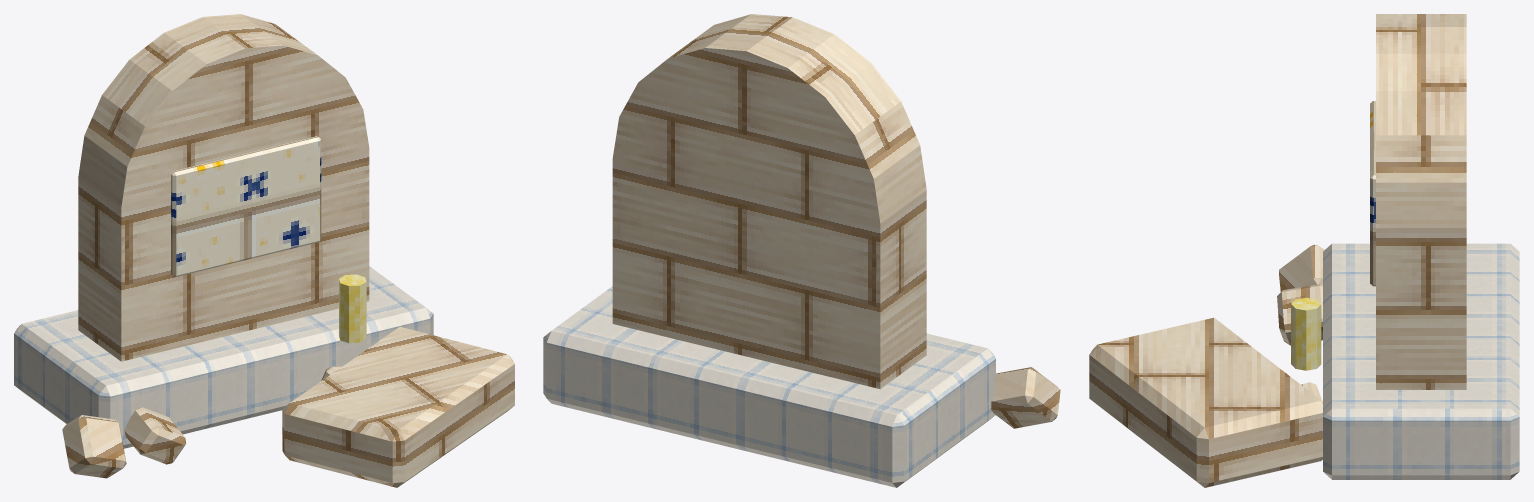
The model's file is tower_grave_a.glb.
3 views of the same model, side by side, from view 1: azimuth 30°, elevation 25°; view 2: azimuth 150°, elevation 25°; view 3: azimuth 270°, elevation 25° (orthographic). The views are drawn at different scales.
Visible parts, largest first — view 1: Column, Stub; view 2: Column, Stub; view 3: Column, Stub.
Boxes of the visible parts, x1,y1,x2,y2 form: Column: (14, 14, 433, 448); Stub: (62, 326, 514, 487); Column: (543, 14, 995, 487); Stub: (991, 367, 1060, 428); Column: (1291, 14, 1519, 479); Stub: (1089, 244, 1324, 487).
Size of the model in its own units: 1.61 by 1.39 by 1.42.
4 materials, 4 textured.
